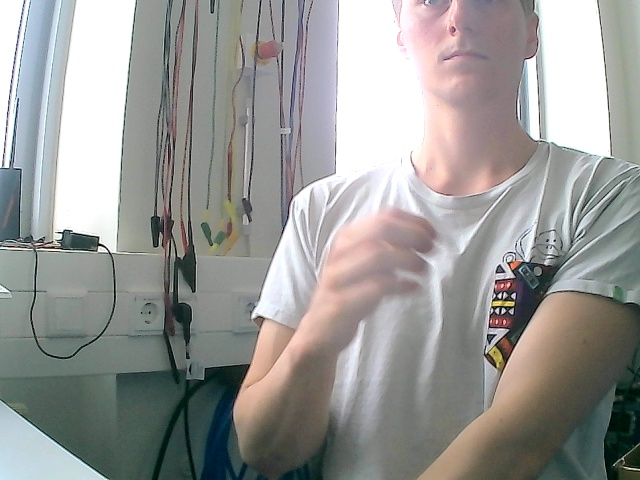no_gesture: (304, 204, 441, 349)
